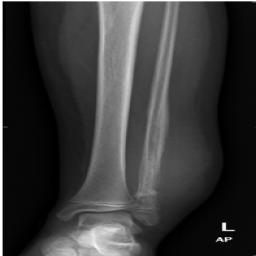cancer: (132, 96, 168, 212)
